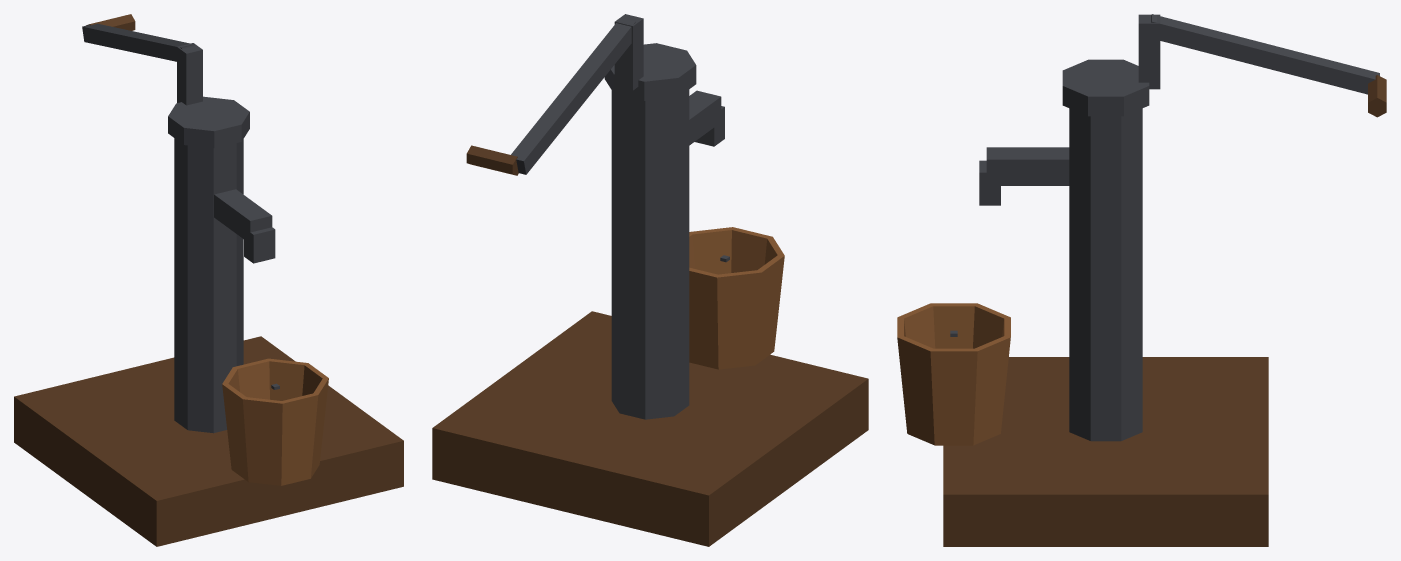
File: mine_water_pump.glb
3 renders of one model, left to right at view 1: azimuth 30°, elevation 25°; view 2: azimuth 150°, elevation 25°; view 3: azimuth 270°, elevation 25°, orthographic. The views are drawn at different scales.
Parts seen in each view (by area): view 1: mine_water_pump; view 2: mine_water_pump; view 3: mine_water_pump.
Boxes of the visible parts, x1,y1,x2,y2 form: mine_water_pump: (14, 14, 403, 546); mine_water_pump: (432, 14, 868, 546); mine_water_pump: (897, 14, 1386, 546).
Size of what is drawn, in the model's own units: 0.9 by 1.4 by 1.35.
